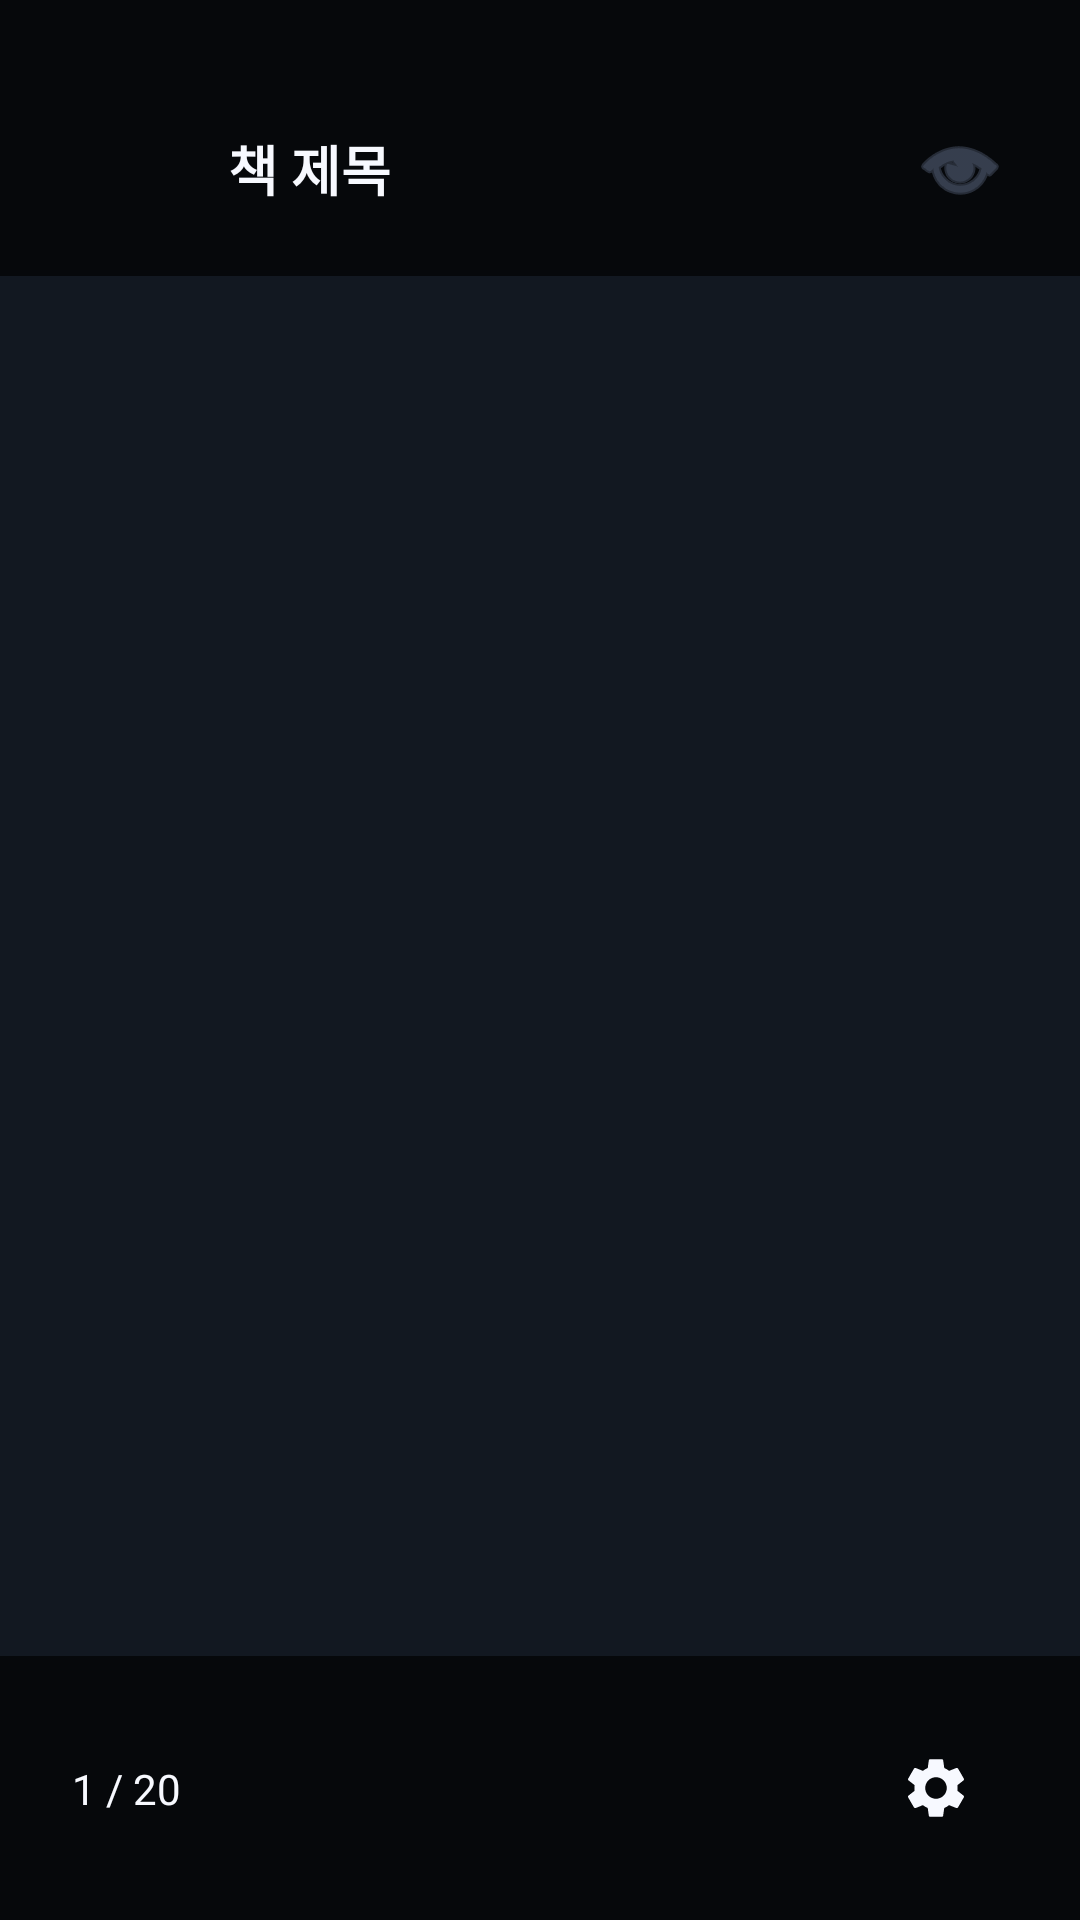

Where to tap for icons on this 1080x1920 app screen, as point (x, y):
settings: point (936, 1788)
view: point (960, 170)
